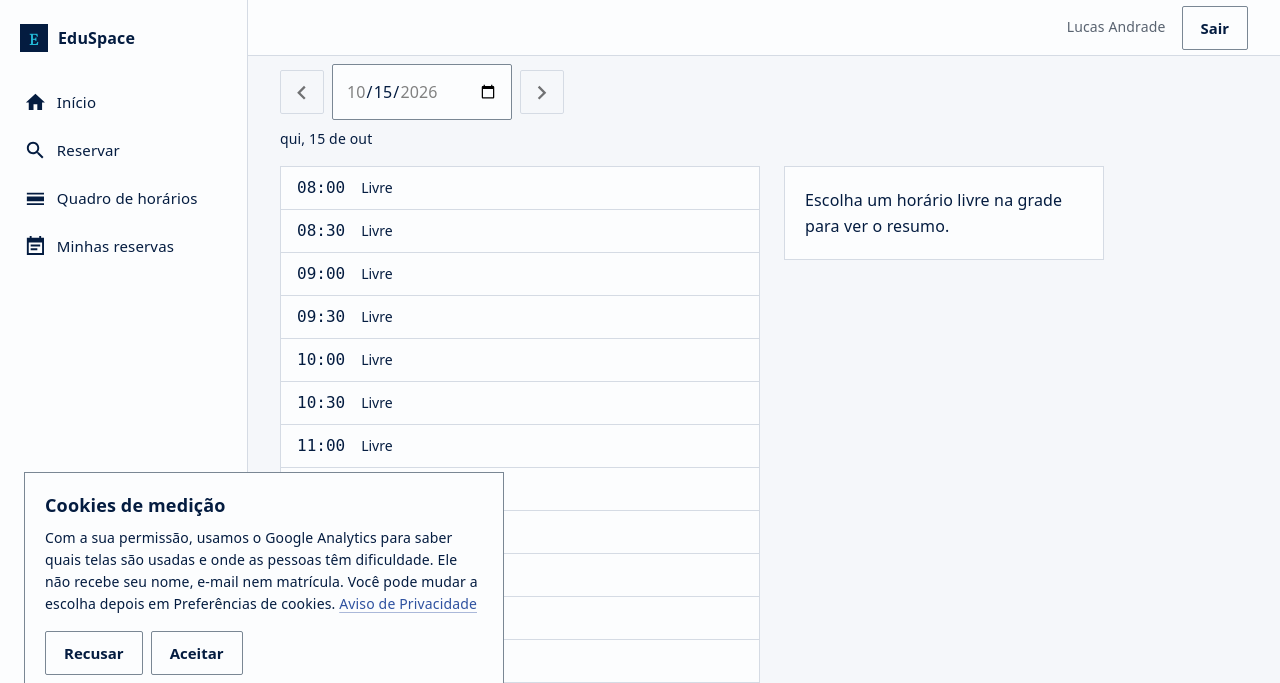
Test: usage rules (#28) in the interface › explains the active reservations limit instead of offering to reserve
(page scrolled)
Click the button with aria-label "10:00 às 10:30" at (321, 360), box [280, 338, 760, 382]
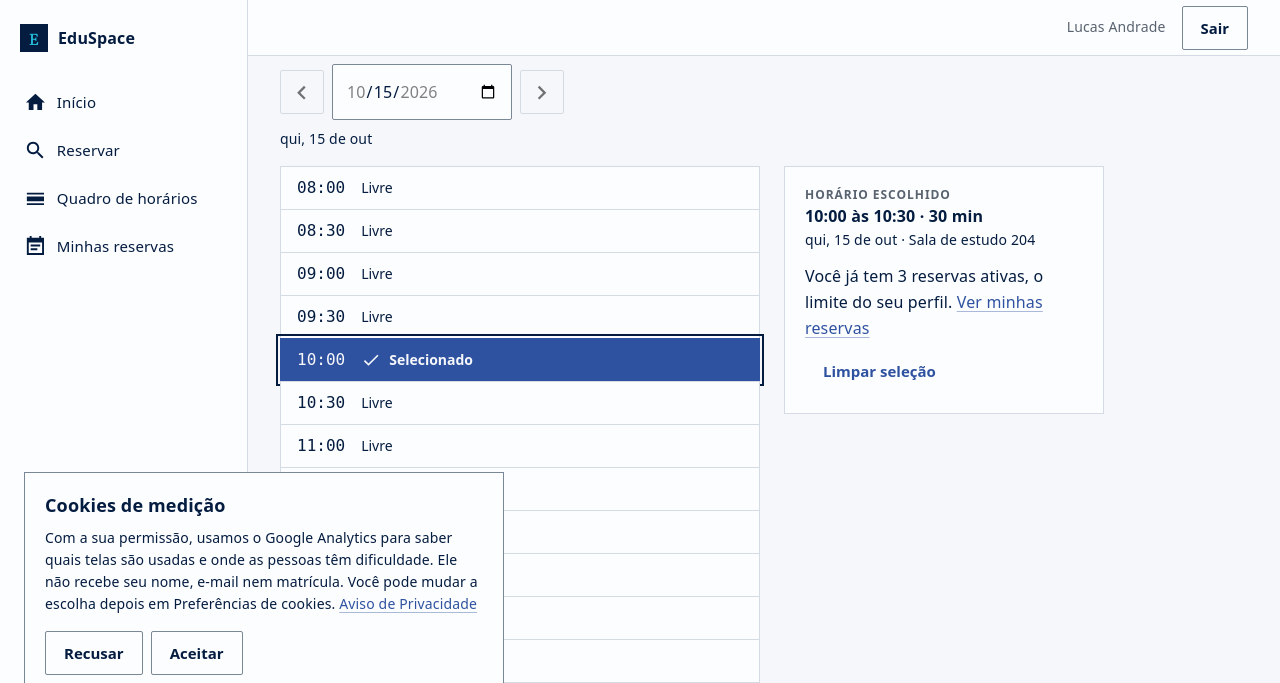
Now the text "Você já tem 3 reservas ativas, o limite do seu perfil" is shown, box [805, 263, 1083, 341]
